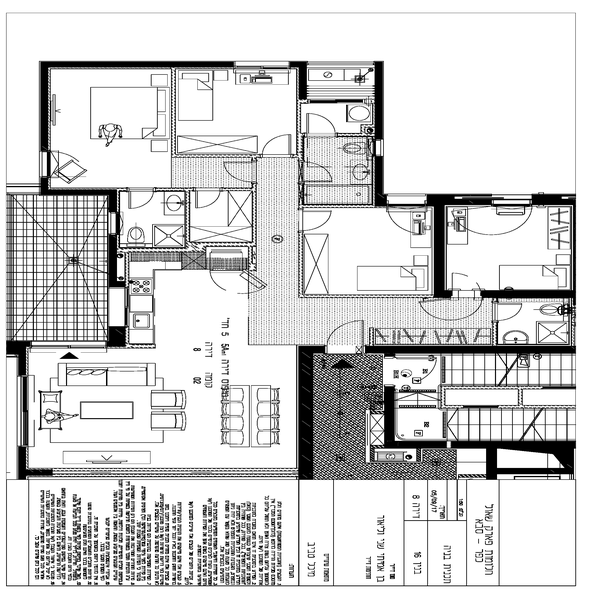door: (384, 188, 427, 241), (326, 315, 367, 354), (302, 107, 341, 144), (255, 130, 297, 164), (299, 207, 344, 235), (489, 298, 533, 325), (298, 159, 337, 188), (219, 156, 255, 184), (122, 188, 155, 210)
room: (11, 334, 314, 484), (32, 53, 187, 193), (386, 344, 584, 451), (428, 176, 578, 304), (292, 195, 449, 303), (291, 60, 399, 214)
wall: (365, 337, 577, 356), (293, 333, 320, 476), (379, 434, 577, 451), (36, 54, 238, 69), (428, 191, 452, 304), (480, 285, 573, 307), (35, 58, 55, 154), (370, 56, 387, 137), (103, 234, 127, 283), (381, 382, 399, 445), (488, 465, 578, 477), (531, 188, 577, 211), (487, 433, 504, 483), (371, 155, 387, 206), (294, 57, 308, 101), (17, 452, 27, 484)
window: (20, 374, 41, 447), (493, 184, 533, 211), (237, 60, 291, 76), (31, 344, 109, 355)
